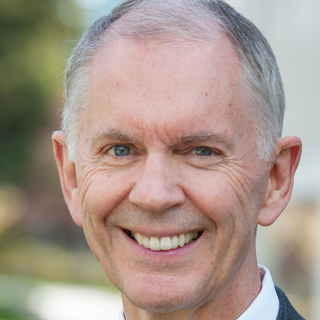eye: (177, 140, 228, 165), (96, 139, 143, 164)
